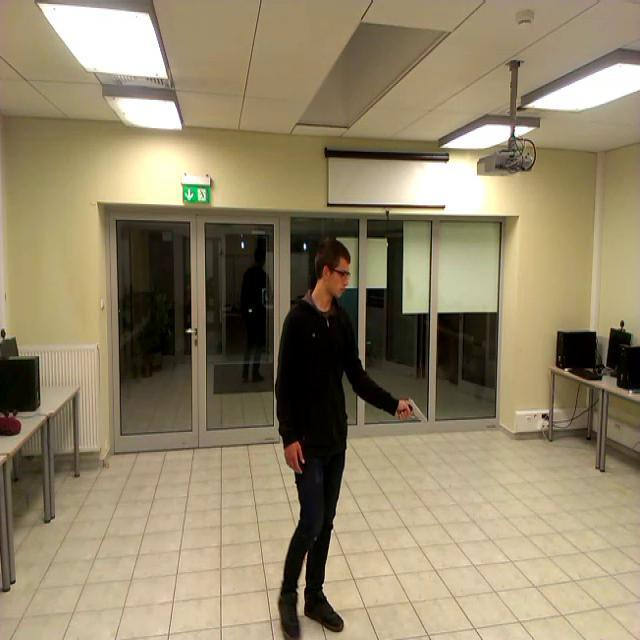Gun: (399, 396, 427, 422)
